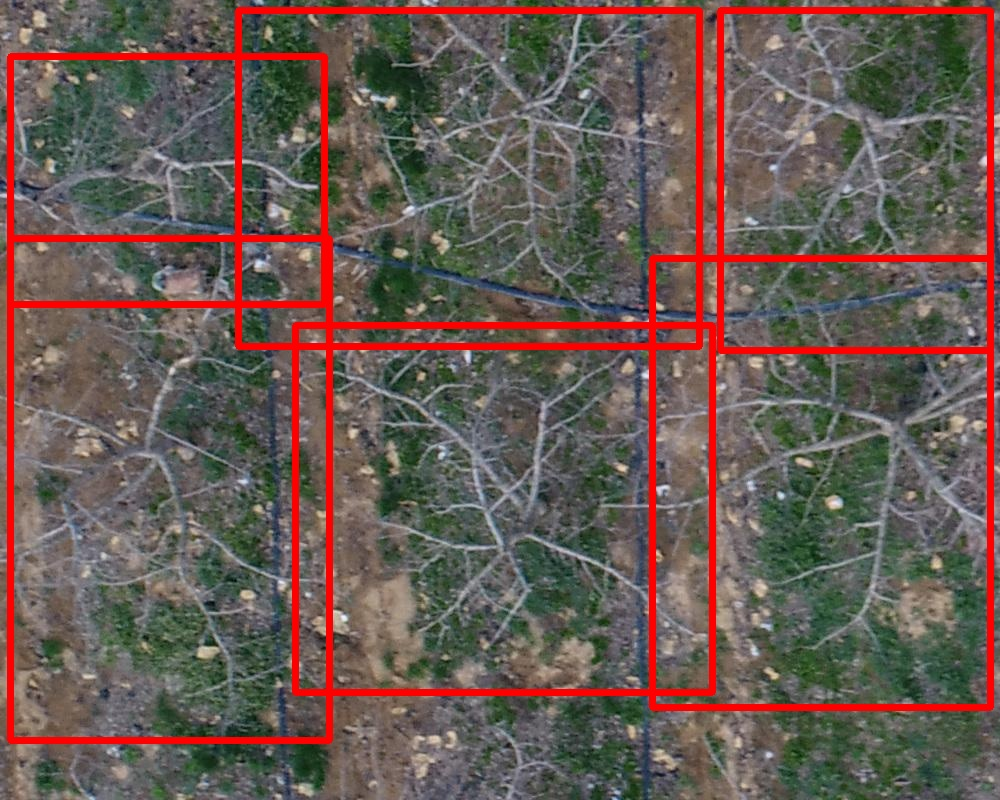apple: (10, 238, 329, 740), (238, 10, 699, 346), (295, 325, 712, 692), (652, 258, 990, 707), (720, 10, 990, 350), (10, 56, 324, 304)
